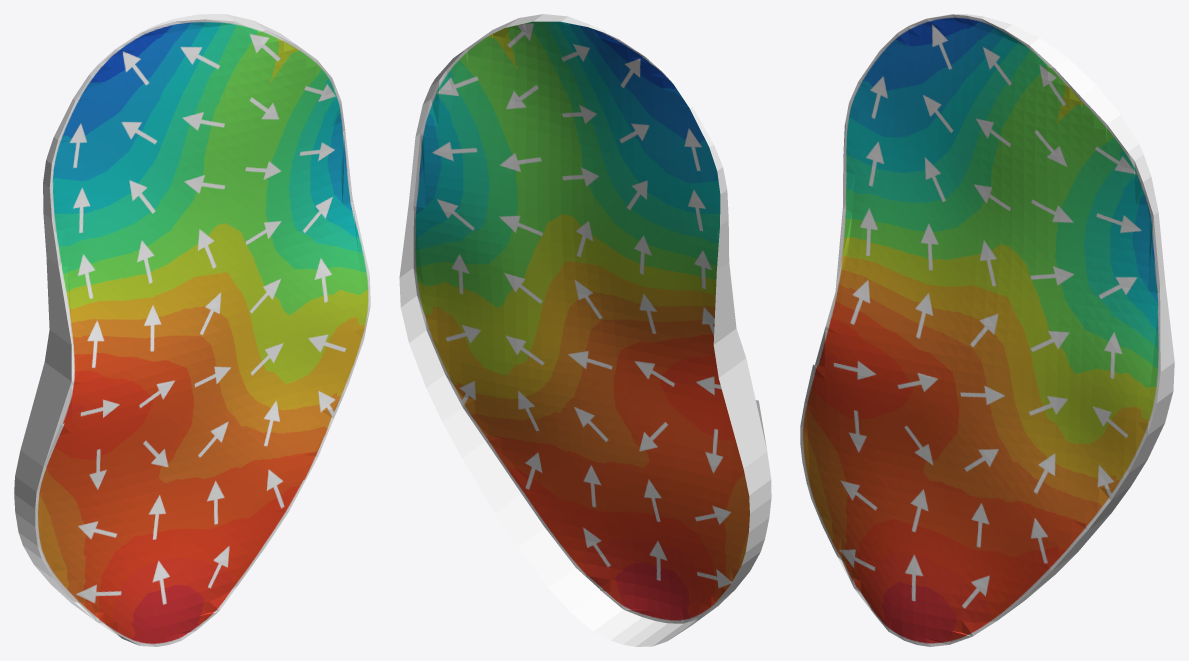
3 views of the same model, side by side, from view 1: azimuth 30°, elevation 25°; view 2: azimuth 150°, elevation 25°; view 3: azimuth 330°, elevation 25° (orthographic). The views are drawn at different scales.
Size of the model in its own units: 2.89 by 4.8 by 0.4645.
Materials: 2 (1 with a texture image).
